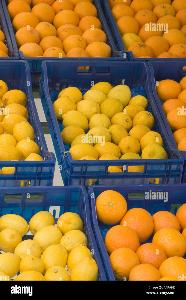lemon: (55, 69, 152, 166), (1, 189, 88, 281), (0, 64, 58, 160)
orange: (93, 184, 186, 279), (3, 1, 117, 60), (107, 0, 186, 61), (147, 62, 186, 152)
